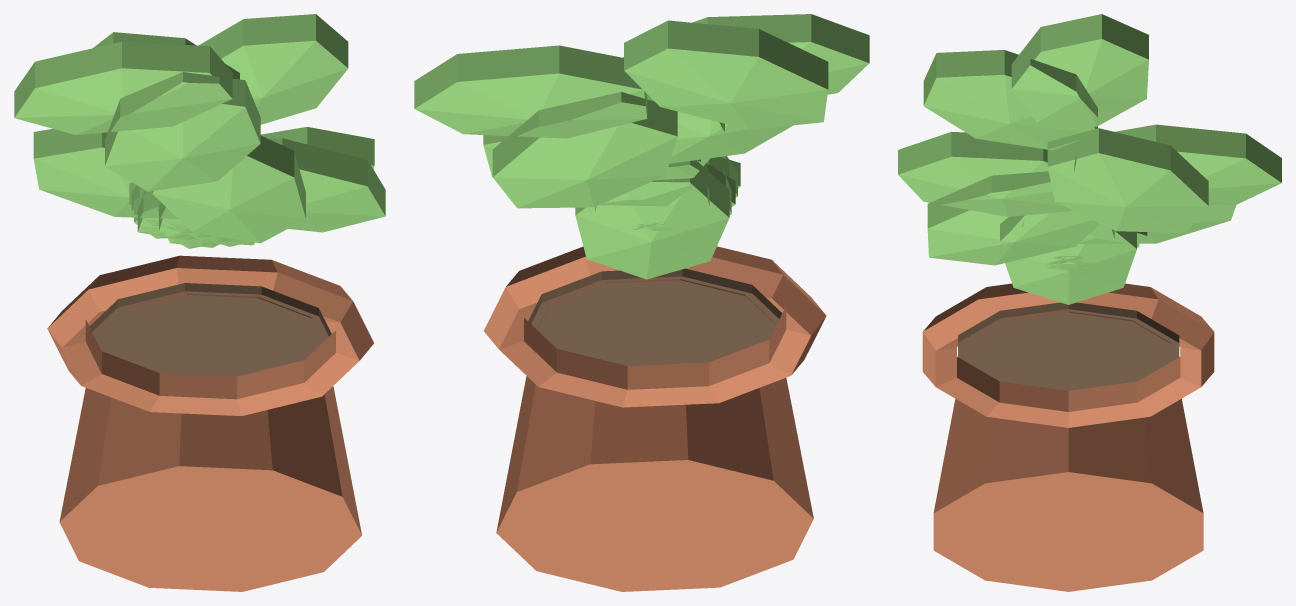
The model's file is plant_succulent.glb.
3 renders of one model, left to right at view 1: azimuth 30°, elevation 25°; view 2: azimuth 150°, elevation 25°; view 3: azimuth 270°, elevation 25°, orthographic. The views are drawn at different scales.
Parts seen in each view (by area): view 1: plant_succulent; view 2: plant_succulent; view 3: plant_succulent.
Part boxes in pixels (<box>): plant_succulent: <box>14,14,385,591</box>; plant_succulent: <box>414,14,869,591</box>; plant_succulent: <box>898,14,1281,591</box>.
Bounding box in the file's own units: 0.6561 × 0.8727 × 0.6762.
